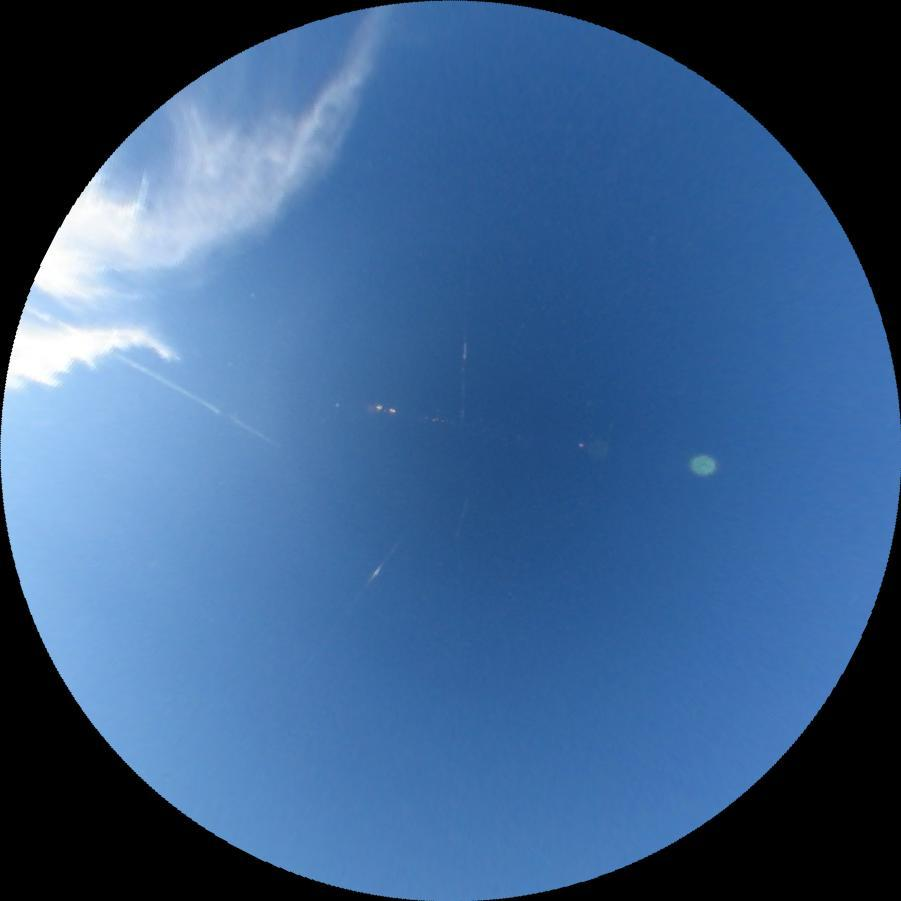parasite: (23, 302, 283, 448), (345, 536, 404, 609), (459, 332, 468, 423)
